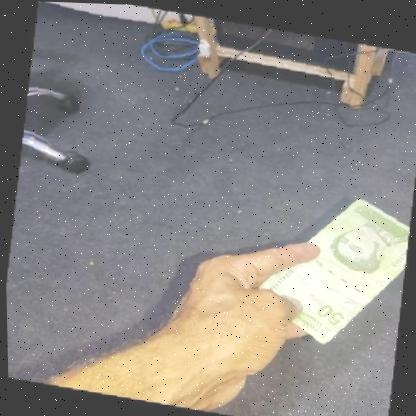fifty-front-vef: (250, 186, 413, 350)
